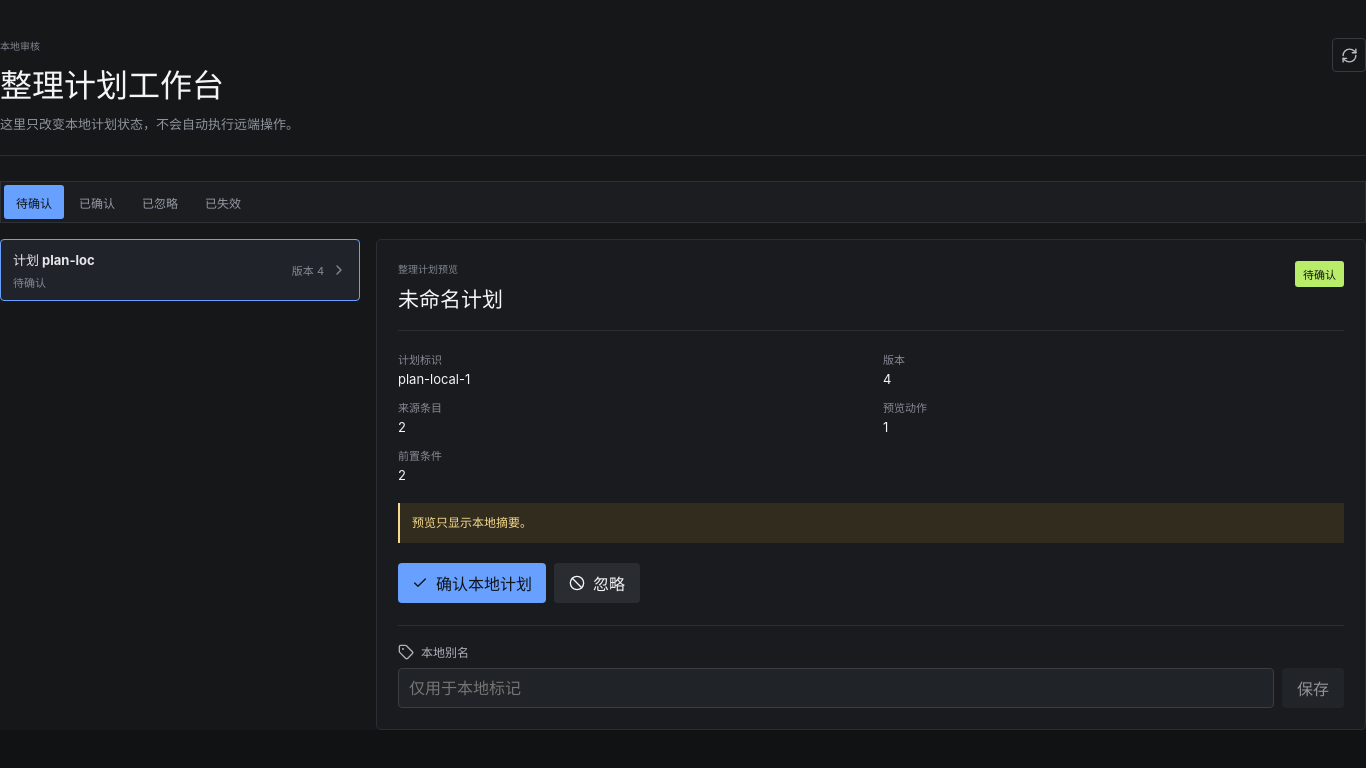
Test: OrganizationWorkbenchView › loads a safe cursor page and sends the current revision for local actions
The image size is (1366, 768).
Click the button "确认本地计划".
click(472, 583)  # box x1=398 y1=563 x2=546 y2=603
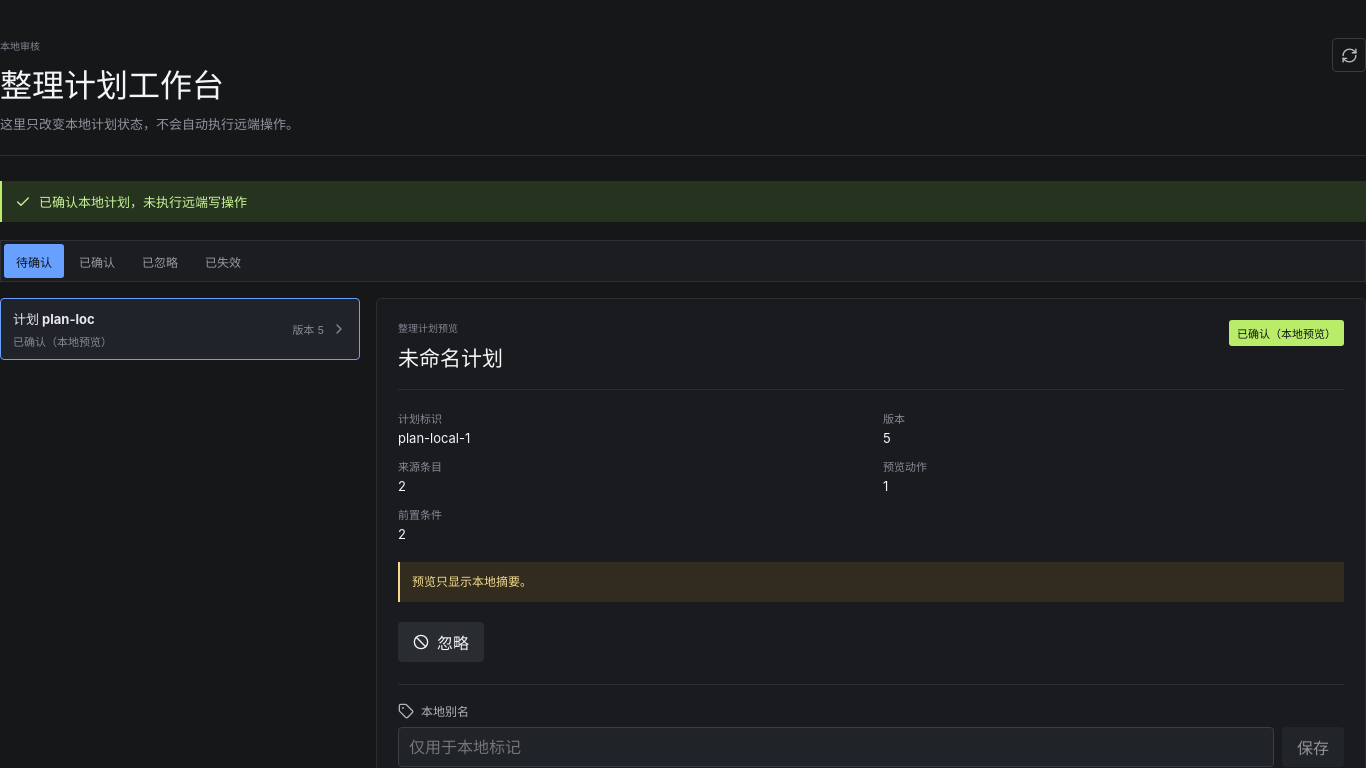
Now the text "已确认本地计划" is shown, box x1=39 y1=194 x2=247 y2=210
